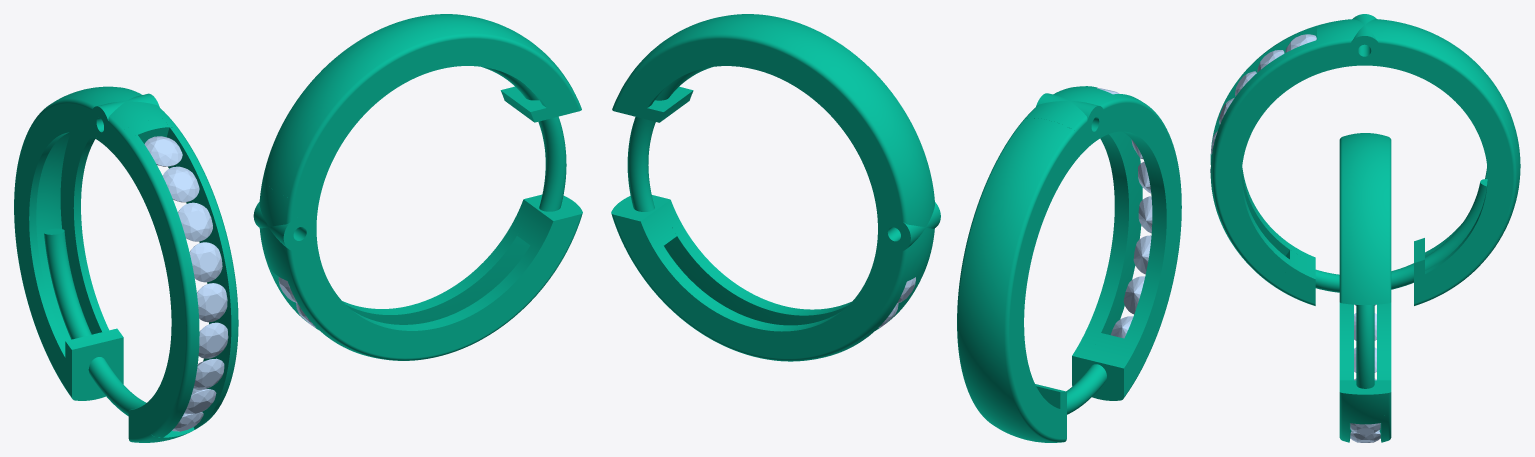
3 views of the same model, side by side, from view 1: azimuth 30°, elevation 25°; view 2: azimuth 150°, elevation 25°; view 3: azimuth 270°, elevation 25° (orthographic). The views are drawn at different scales.
Parts seen in each view (by area): view 1: VEAR078.3dm, Diamond_Round (×8); view 2: VEAR078.3dm; view 3: VEAR078.3dm.
Boxes of the visible parts, <box> form: VEAR078.3dm: <box>14,14,582,442</box>; Diamond_Round (×8): <box>144,136,228,414</box>; VEAR078.3dm: <box>611,14,1181,442</box>; VEAR078.3dm: <box>1210,14,1520,442</box>.
Bounding box in the file's own units: 2.93 × 1.92 × 1.92.
